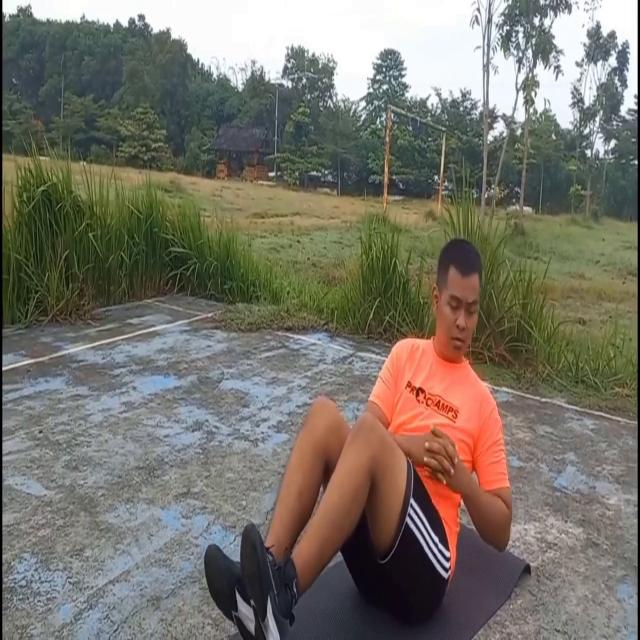Russian twist: (181, 206, 543, 640)
